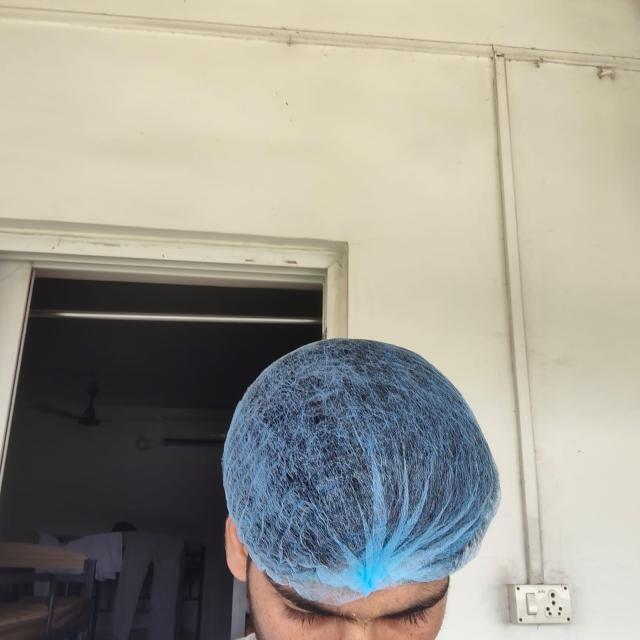hairnet-detection: (222, 338, 500, 640)
